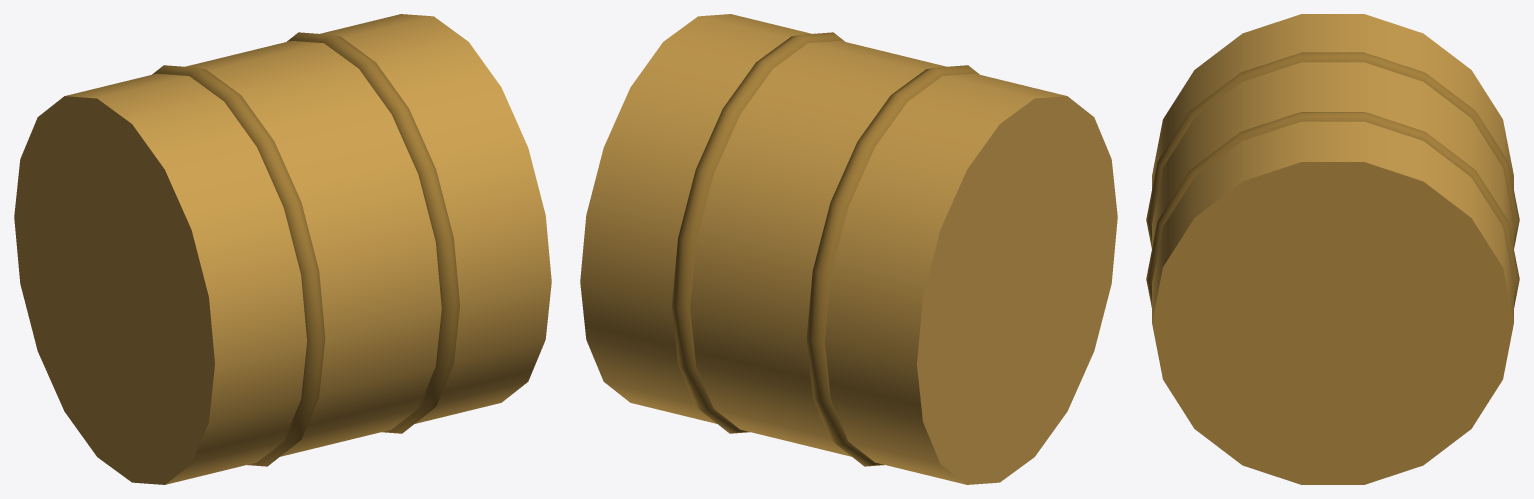
File: hay_high.glb
The picture shows the model from 3 angles, left to right: view 1: azimuth 30°, elevation 25°; view 2: azimuth 150°, elevation 25°; view 3: azimuth 270°, elevation 25°; orthographic projection. The views are drawn at different scales.
Bounding box in the file's own units: 1.2 × 1.26 × 1.28.
